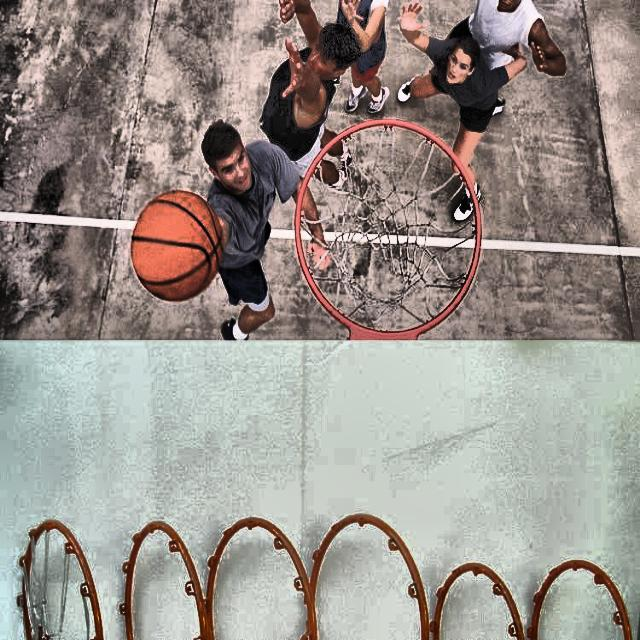board: (133, 189, 223, 301)
